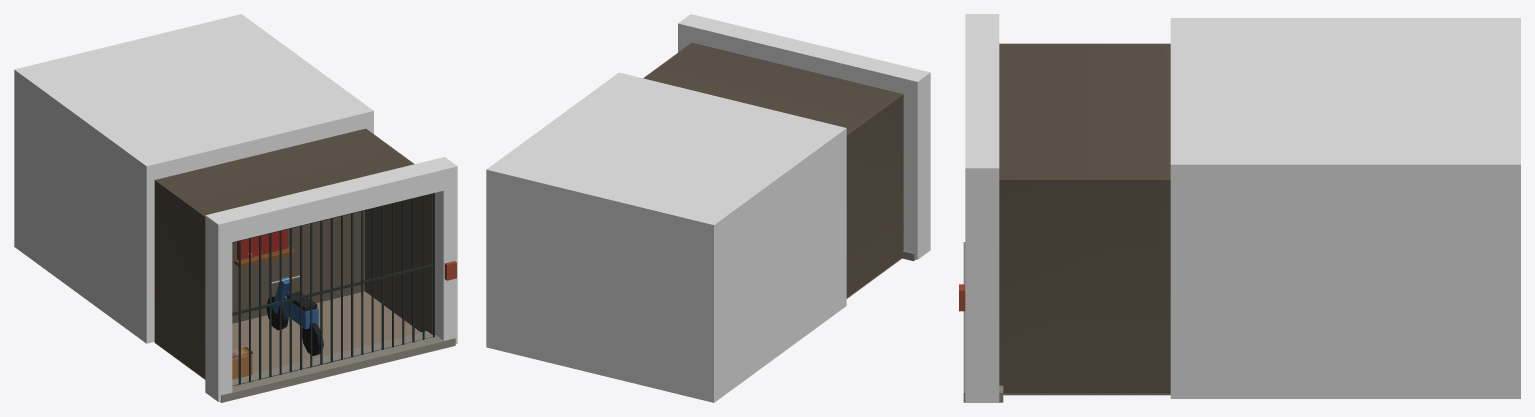
File: tret_nha_o_48.glb
3 renders of one model, left to right at view 1: azimuth 30°, elevation 25°; view 2: azimuth 150°, elevation 25°; view 3: azimuth 270°, elevation 25°, orthographic. The views are drawn at different scales.
Visible parts, largest first — view 1: tret_nha_o_48; view 2: tret_nha_o_48; view 3: tret_nha_o_48.
Boxes of the visible parts, bbox=[...] form: tret_nha_o_48: bbox=[14, 14, 457, 402]; tret_nha_o_48: bbox=[486, 14, 930, 402]; tret_nha_o_48: bbox=[959, 14, 1520, 402].
Size of the model in its own units: 4.8 by 3.42 by 7.38.
